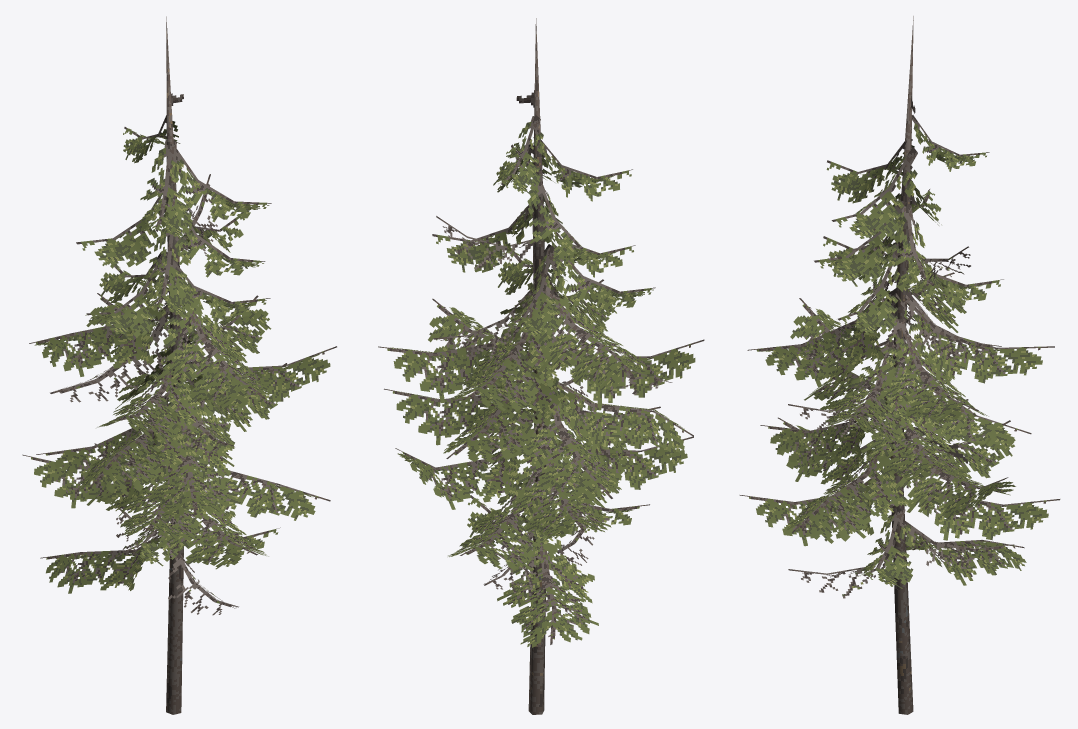
The model's file is Spruce3.glb.
The picture shows the model from 3 angles, left to right: view 1: azimuth 30°, elevation 25°; view 2: azimuth 150°, elevation 25°; view 3: azimuth 270°, elevation 25°; orthographic projection.
Visible parts, largest first — view 1: Spruce3; view 2: Spruce3; view 3: Spruce3.
Boxes of the visible parts, x1,y1,x2,y2 form: Spruce3: [22, 16, 336, 714]; Spruce3: [378, 18, 704, 714]; Spruce3: [739, 16, 1060, 714].
Bounding box in the file's own units: 5.08 × 11.83 × 5.04.
2 materials, 2 textured.
